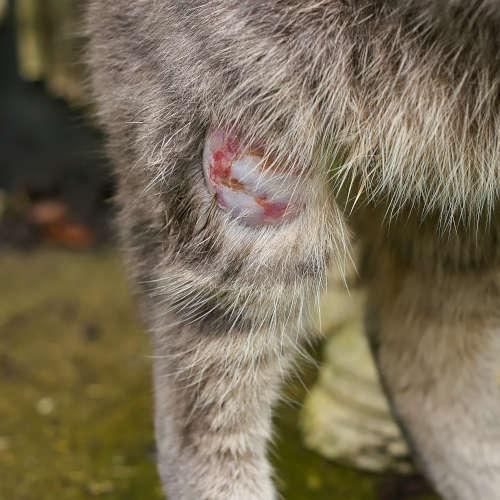lump_and_bump: (200, 113, 303, 227)
